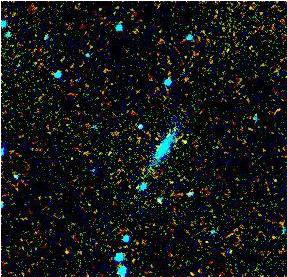star: (166, 125, 196, 155)
